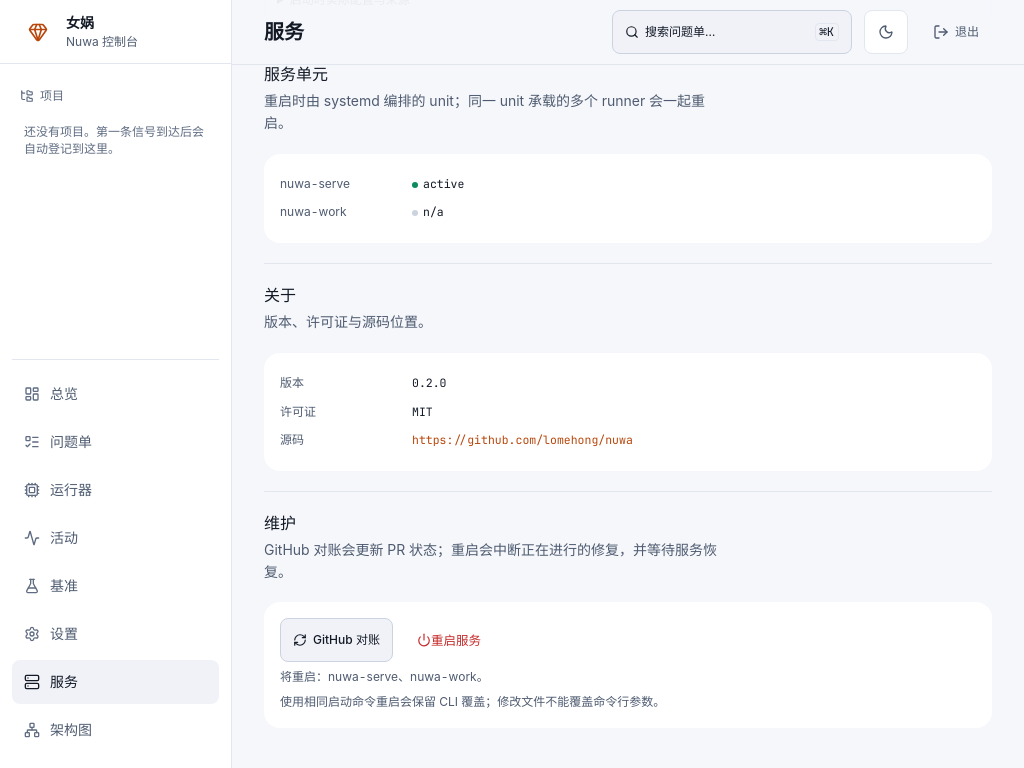
it: RestartDialog › shows the 501 manual command without a retry that cannot succeed
The image size is (1024, 768).
(page scrolled)
Click the button "重启服务" at {"x": 449, "y": 640}, box [405,624,493,656]
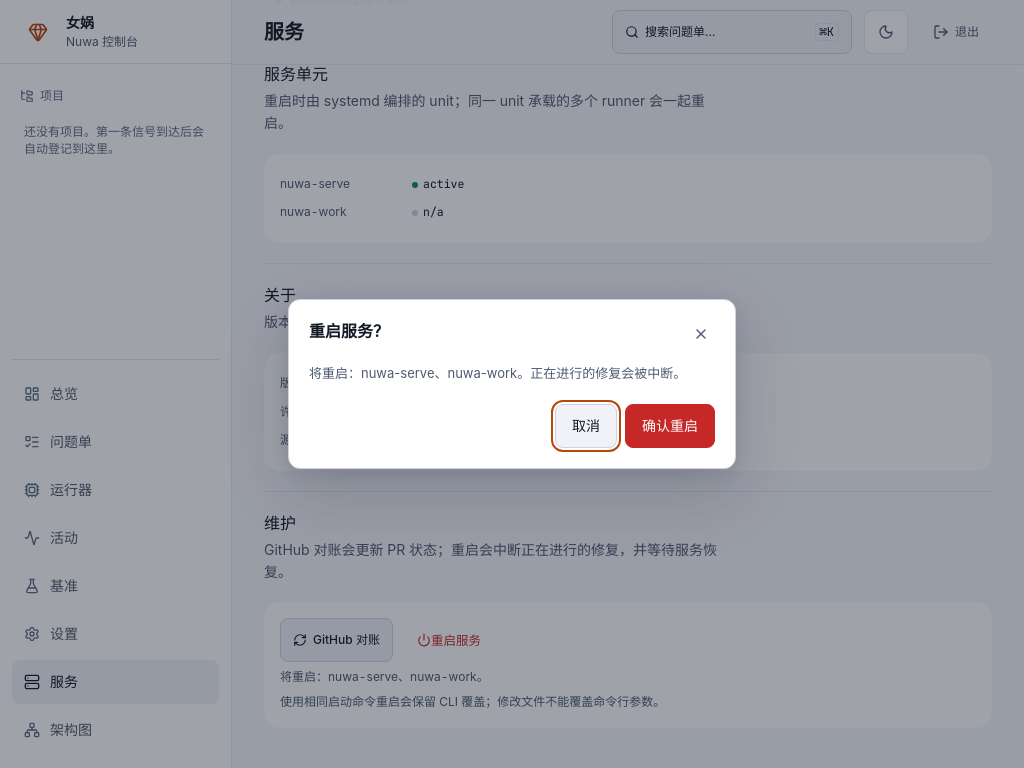
Click the button "确认重启" at {"x": 670, "y": 426}, box [625,404,715,448]
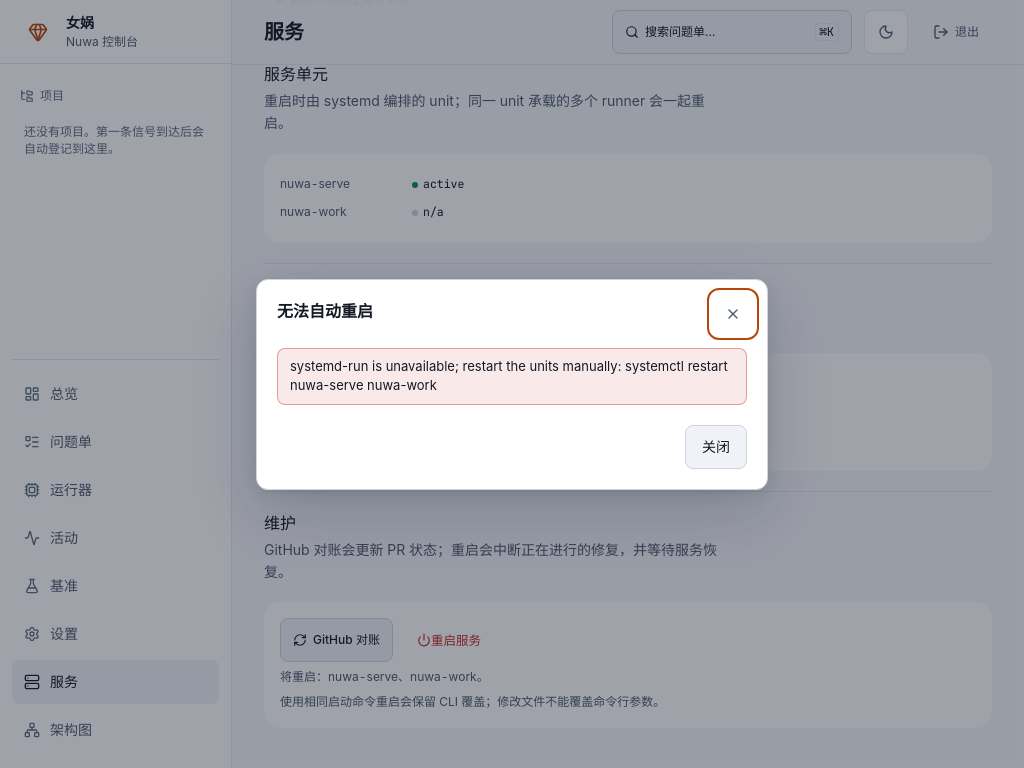
Expected: the text "systemctl restart nuwa-serve nuwa-work" is shown, [290,358,728,393]
Expected: the button "关闭" is shown, [685,424,747,468]
